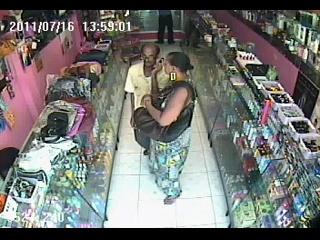Normal: (135, 51, 196, 206), (124, 43, 170, 146), (154, 10, 176, 44), (75, 50, 108, 66)
